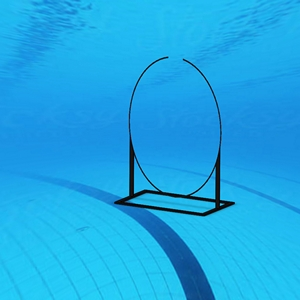circle: (112, 55, 240, 217)
